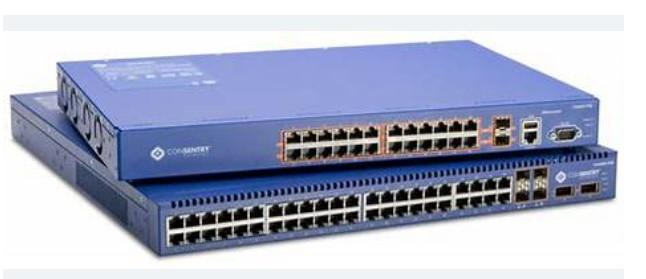NetworkSwitch: (9, 40, 618, 258)
